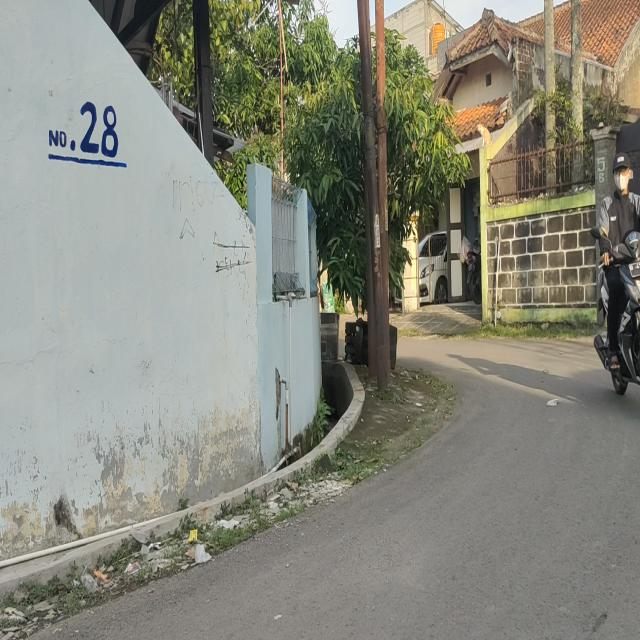no-helmet: (607, 145, 636, 205)
